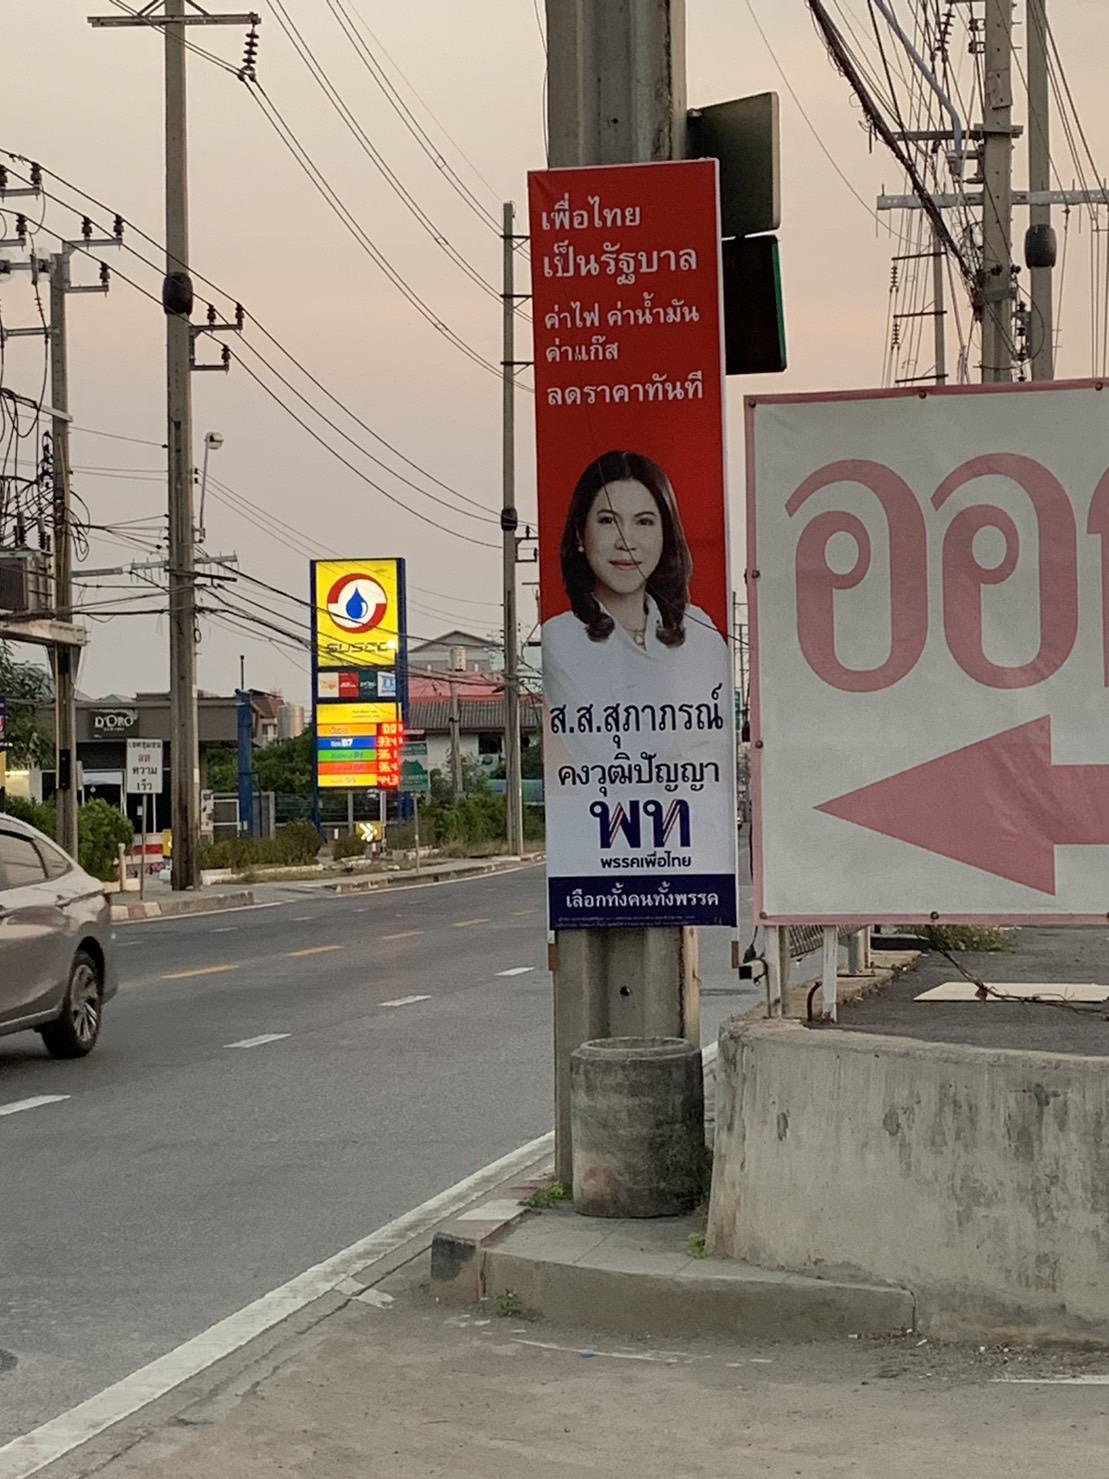Banner: (503, 136, 757, 943)
